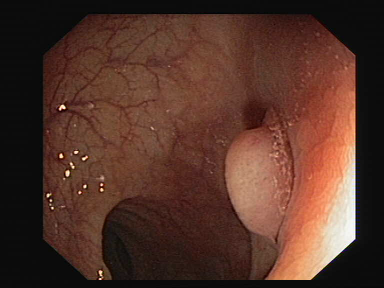polyp: (186, 105, 324, 254)
